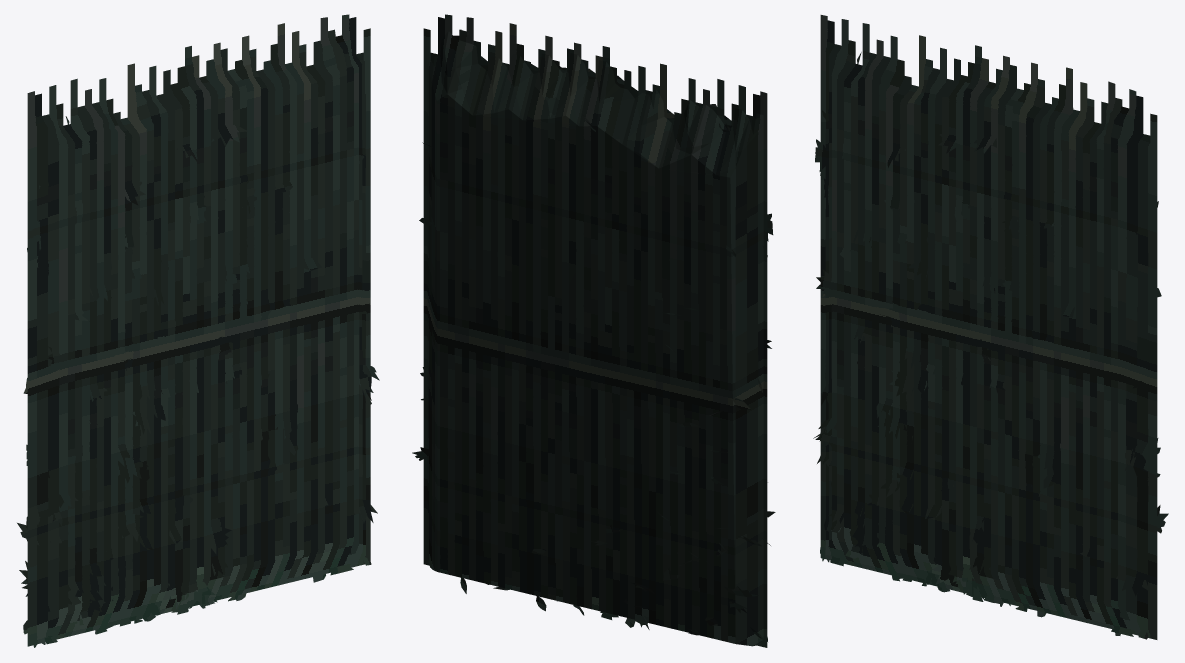
Rendered from fence_501_cut_v19234.glb.
3 views of the same model, side by side, from view 1: azimuth 30°, elevation 25°; view 2: azimuth 150°, elevation 25°; view 3: azimuth 330°, elevation 25° (orthographic). The views are drawn at different scales.
Parts seen in each view (by area): view 1: fence_501_cut_lod0; view 2: fence_501_cut_lod0; view 3: fence_501_cut_lod0.
Part boxes in pixels (x1,y1,x2,y2): fence_501_cut_lod0: (17,14,379,647); fence_501_cut_lod0: (412,14,775,647); fence_501_cut_lod0: (813,15,1168,639).
Bounding box in the file's own units: 1.04 × 1.6 × 0.2241.
1 material, 1 textured.
